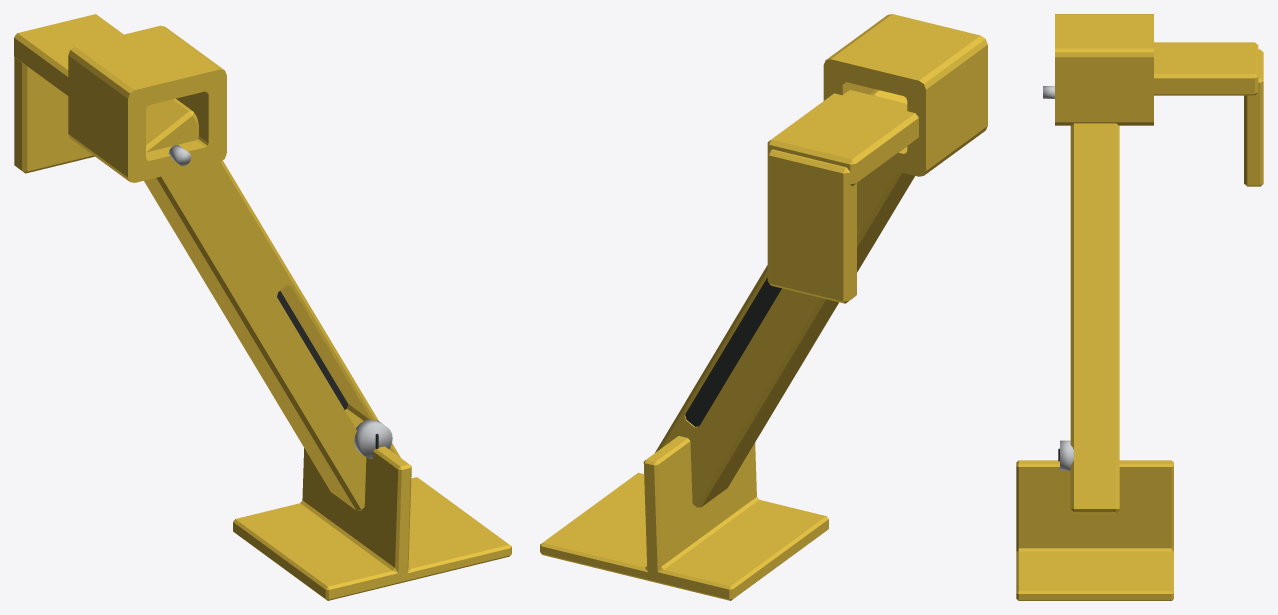
The model's file is full.fbx.
3 views of the same model, side by side, from view 1: azimuth 30°, elevation 25°; view 2: azimuth 150°, elevation 25°; view 3: azimuth 270°, elevation 25° (orthographic). The views are drawn at different scales.
Parts seen in each view (by area): view 1: Diagonal rectangular arm, Folded ground tyre support, Raised rectangular receiver, Generic rear downturned capture, Generic rear receiver spine, Round silver locking face, Recessed dark slot lining; view 2: Folded ground tyre support, Diagonal rectangular arm, Raised rectangular receiver, Generic rear downturned capture, Generic rear receiver spine, Recessed dark slot lining; view 3: Folded ground tyre support, Diagonal rectangular arm, Raised rectangular receiver, Generic rear receiver spine, Generic rear downturned capture, Round silver locking face.
Part boxes in pixels (x1,y1,x2,y2): Diagonal rectangular arm: [144, 98, 400, 510]; Folded ground tyre support: [233, 446, 511, 600]; Raised rectangular receiver: [68, 25, 226, 182]; Generic rear downturned capture: [14, 57, 94, 173]; Generic rear receiver spine: [14, 14, 123, 95]; Round silver locking face: [354, 419, 392, 459]; Recessed dark slot lining: [277, 291, 347, 409]; Folded ground tyre support: [540, 436, 828, 600]; Diagonal rectangular arm: [655, 89, 914, 507]; Raised rectangular receiver: [823, 14, 987, 176]; Generic rear downturned capture: [767, 149, 856, 303]; Generic rear receiver spine: [767, 90, 918, 186]; Recessed dark slot lining: [685, 278, 781, 426]; Folded ground tyre support: [1016, 460, 1173, 600]; Diagonal rectangular arm: [1070, 123, 1119, 513]; Raised rectangular receiver: [1055, 14, 1153, 125]; Generic rear receiver spine: [1154, 42, 1258, 95]; Generic rear downturned capture: [1244, 49, 1263, 186]; Round silver locking face: [1060, 440, 1073, 470].
Size of the model in its own units: 31.85 by 45.1 by 22.75.
